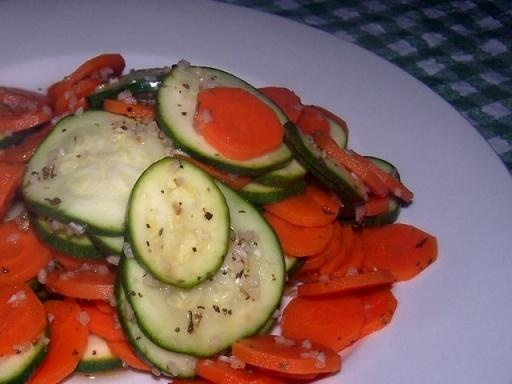background: (0, 32, 351, 230)
